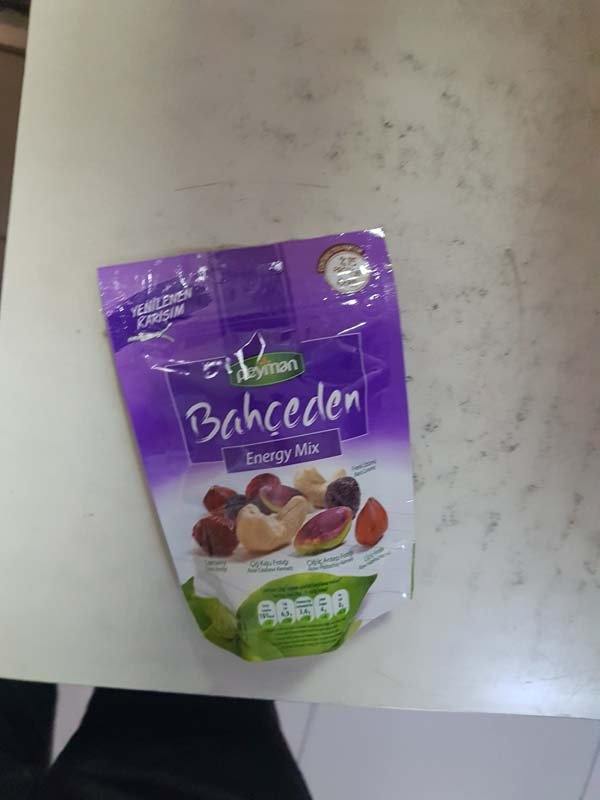bahcedenenergymix: (90, 219, 430, 667)
